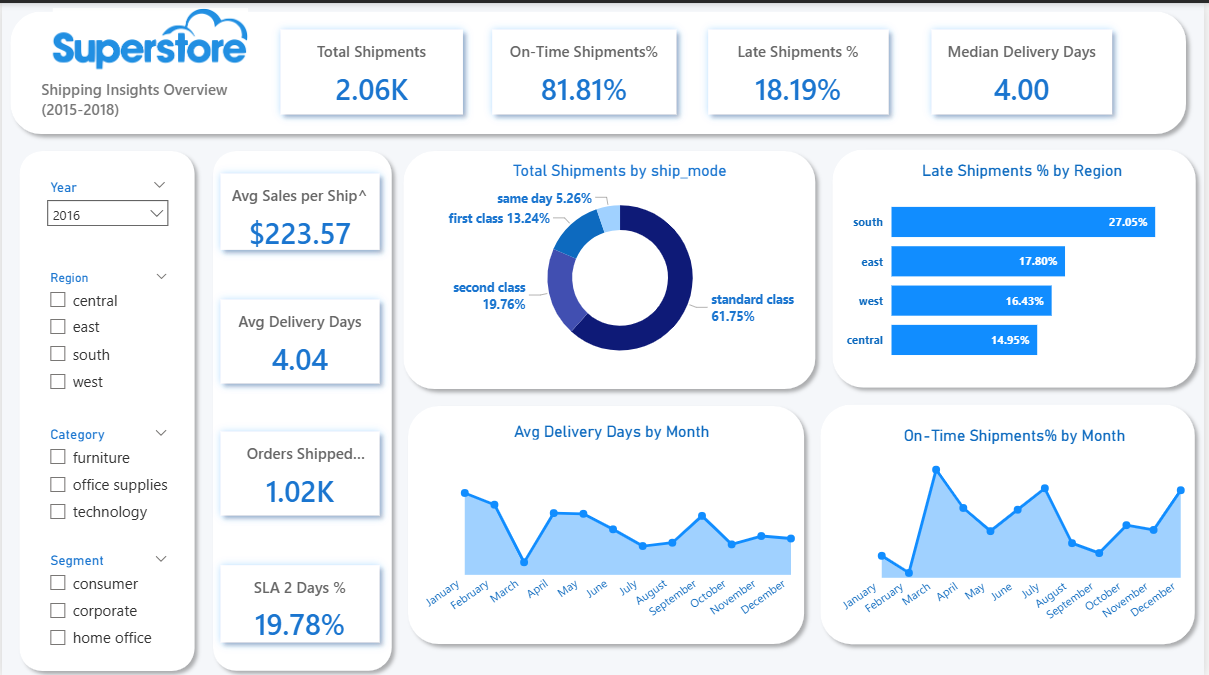

The page's visual inventory and layout, read from the dashboard file:
{"tool":"powerbi","page":{"name":"Shipping Insights","canvas":[1280,720],"ordinal":3},"visuals":[{"type":"shape","box":[863.3,418.3,416.7,273.3],"z":0},{"type":"shape","box":[875,146.7,405,271.7],"z":1000},{"type":"shape","box":[423.3,420,440,271.7],"z":2000},{"type":"shape","box":[418.3,148.3,456.7,271.7],"z":3000},{"type":"shape","box":[215,148.3,208.3,571.7],"z":4000},{"type":"shape","box":[0,0,1270.1,148.6],"z":5000},{"type":"image","title":"Executive Dashboard","box":[36.8,0,242.8,75.4],"z":6000},{"type":"textbox","box":[36.8,75.4,242.8,60.3],"z":7000},{"type":"cardVisual","fields":{"Data":["Measure.Total Shipments"]},"box":[279.6,11.2,228.5,124.6],"z":8000},{"type":"cardVisual","fields":{"Data":["Measure.Late Ship % (Ship Date)"]},"box":[734.9,11.2,226.9,124.6],"z":9000},{"type":"cardVisual","fields":{"Data":["Measure.Median Delivery Days (Ship Date)"]},"box":[973,11.2,226.9,124.6],"z":10000},{"type":"shape","box":[9.6,148,204.5,572],"z":11000},{"type":"slicer","fields":{"Values":["Calendar.Year"]},"box":[39.1,182.1,148.6,87.9],"z":12000},{"type":"slicer","fields":{"Values":["region_info.region"]},"box":[38.3,279.6,150.2,156.6],"z":13000},{"type":"slicer","fields":{"Values":["product_info.product_category"]},"box":[38.3,445.7,150.2,124.6],"z":14000},{"type":"slicer","fields":{"Values":["customer_info.customer_segment"]},"box":[38.3,580,150.2,118.2],"z":15000},{"type":"cardVisual","fields":{"Data":["Measure.On-Time % (Ship Date)"]},"box":[504.9,11.2,230.1,124.6],"z":16000},{"type":"cardVisual","fields":{"Data":["Measure.Avg Sales per Shipment"]},"box":[216.2,165,203.3,115],"z":17000},{"type":"cardVisual","fields":{"Data":["Measure.Avg Delivery Days (Ship Date)"]},"box":[216.2,298.3,203.3,123.3],"z":18000},{"type":"cardVisual","fields":{"Data":["Measure.SLA 2 Days % (Ship Date)"]},"box":[216.2,581.7,203.3,116.7],"z":19000},{"type":"cardVisual","fields":{"Data":["Measure.Orders Shipped Count"]},"box":[216.2,440,203.3,123.3],"z":20000},{"type":"donutChart","fields":{"Category":["shipping_info.ship_mode"],"Y":["Measure.Total Shipments"]},"box":[451.7,168.3,411.7,230],"z":21000},{"type":"clusteredBarChart","title":"Late Shipments % by Region","fields":{"Y":["Measure.Late Shipments %"],"Category":["region_info.region"]},"box":[893.3,168.3,386.7,230],"z":22000},{"type":"lineChart","title":"Avg Delivery Days by Month","fields":{"Y":["Measure.Avg Delivery Days"],"Category":["Calendar.Year Hierarchy.Year","Calendar.Year Hierarchy.Quarter","Calendar.Year Hierarchy.MonthName","Calendar.Year Hierarchy.full_date"]},"box":[441.7,445,416.7,230],"z":23000},{"type":"lineChart","title":"On-Time Shipments% by Month","fields":{"Y":["Measure.On-Time Shipments%"],"Category":["Calendar.Year Hierarchy.Year","Calendar.Year Hierarchy.Quarter","Calendar.Year Hierarchy.MonthName","Calendar.Year Hierarchy.full_date"]},"box":[885,450,386.7,228.3],"z":24000}]}

Visuals, with their boxes in screenshot pixels (x1, y1, x2, y2), scaled from the page's 1280x720 canvas onto the 1209x675 screenshot:
shape: 815 392 1208 648
shape: 826 138 1208 392
shape: 400 394 815 648
shape: 395 139 826 394
shape: 203 139 400 674
shape: 0 0 1200 139
"Executive Dashboard" image: 35 0 264 71
textbox: 35 71 264 127
cardVisual - Measure.Total Shipments: 264 10 480 127
cardVisual - Measure.Late Ship % (Ship Date): 694 10 908 127
cardVisual - Measure.Median Delivery Days (Ship Date): 919 10 1133 127
shape: 9 139 202 674
slicer - Calendar.Year: 37 171 177 253
slicer - region_info.region: 36 262 178 409
slicer - product_info.product_category: 36 418 178 535
slicer - customer_info.customer_segment: 36 544 178 655
cardVisual - Measure.On-Time % (Ship Date): 477 10 694 127
cardVisual - Measure.Avg Sales per Shipment: 204 155 396 262
cardVisual - Measure.Avg Delivery Days (Ship Date): 204 280 396 395
cardVisual - Measure.SLA 2 Days % (Ship Date): 204 545 396 655
cardVisual - Measure.Orders Shipped Count: 204 412 396 528
donutChart - shipping_info.ship_mode x Measure.Total Shipments: 427 158 816 373
"Late Shipments % by Region" clusteredBarChart: 844 158 1208 373
"Avg Delivery Days by Month" lineChart: 417 417 811 633
"On-Time Shipments% by Month" lineChart: 836 422 1201 636
